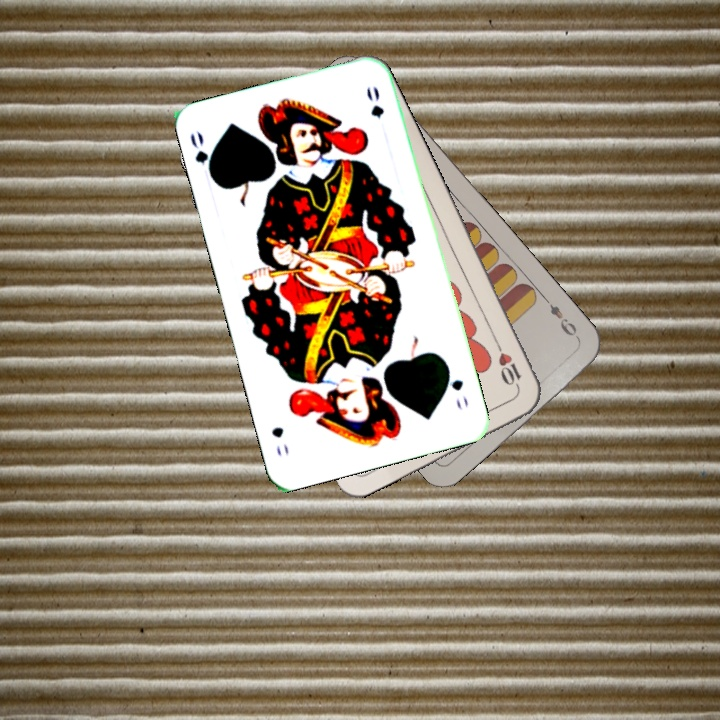E9: (540, 294, 583, 344)
GO: (186, 127, 217, 184), (442, 361, 471, 413)
H10: (491, 337, 524, 393)
